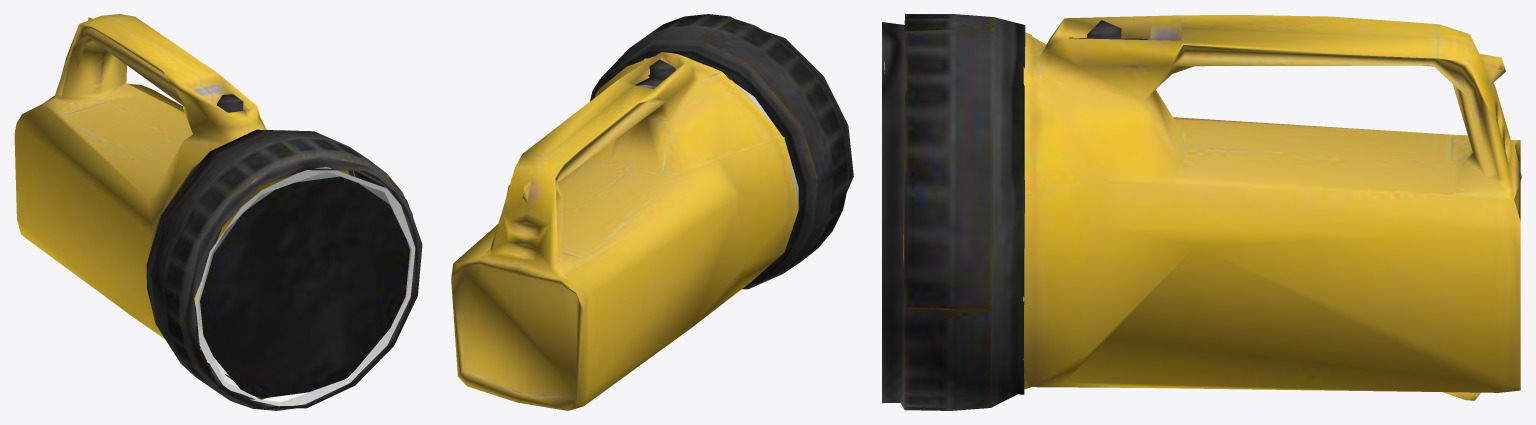
File: pastic_torch_6v.gltf
3 renders of one model, left to right at view 1: azimuth 30°, elevation 25°; view 2: azimuth 150°, elevation 25°; view 3: azimuth 270°, elevation 25°, orthographic. The views are drawn at different scales.
Visible parts, largest first — view 1: pastic_torch_6v; view 2: pastic_torch_6v; view 3: pastic_torch_6v.
Boxes of the visible parts, left/top/right/bottom form: pastic_torch_6v: left=14, top=14, right=422, bottom=410; pastic_torch_6v: left=451, top=14, right=853, bottom=410; pastic_torch_6v: left=882, top=14, right=1521, bottom=410.
Bounding box in the file's own units: 0.1365 × 0.1416 × 0.2242.
Materials: 2 (2 with a texture image).
